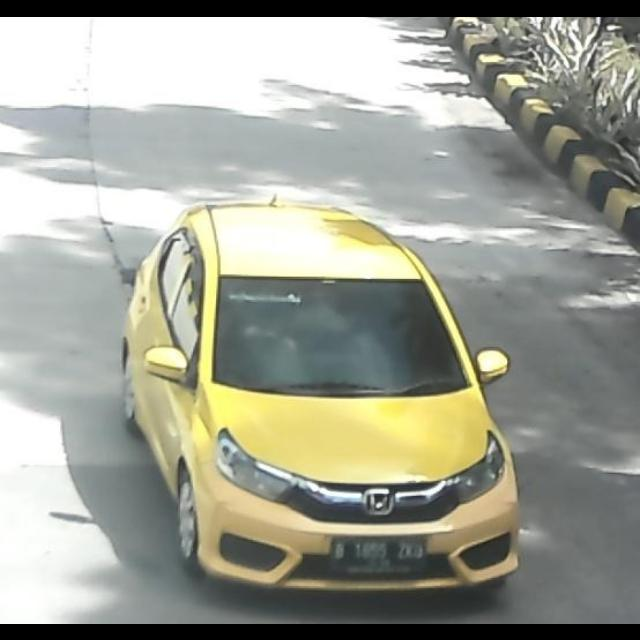plate: (328, 536, 429, 574)
